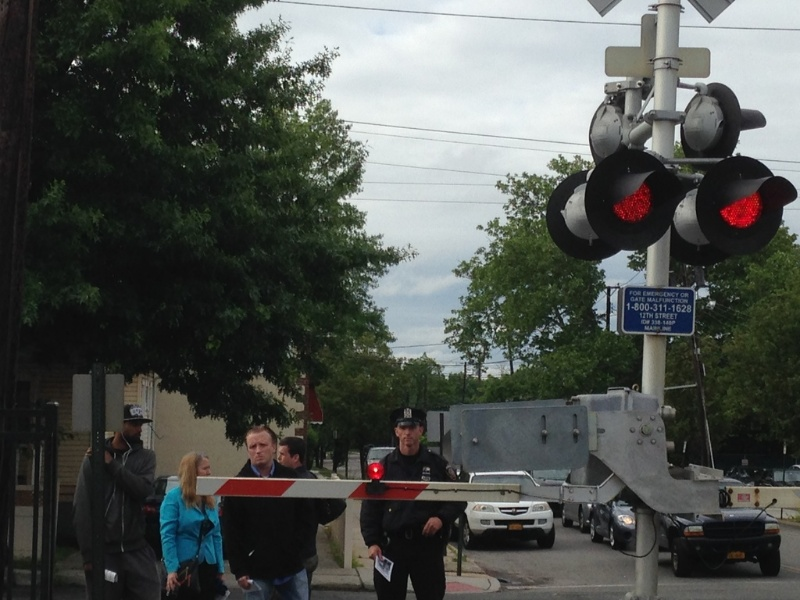red_light: (695, 156, 781, 264), (589, 147, 670, 260)
